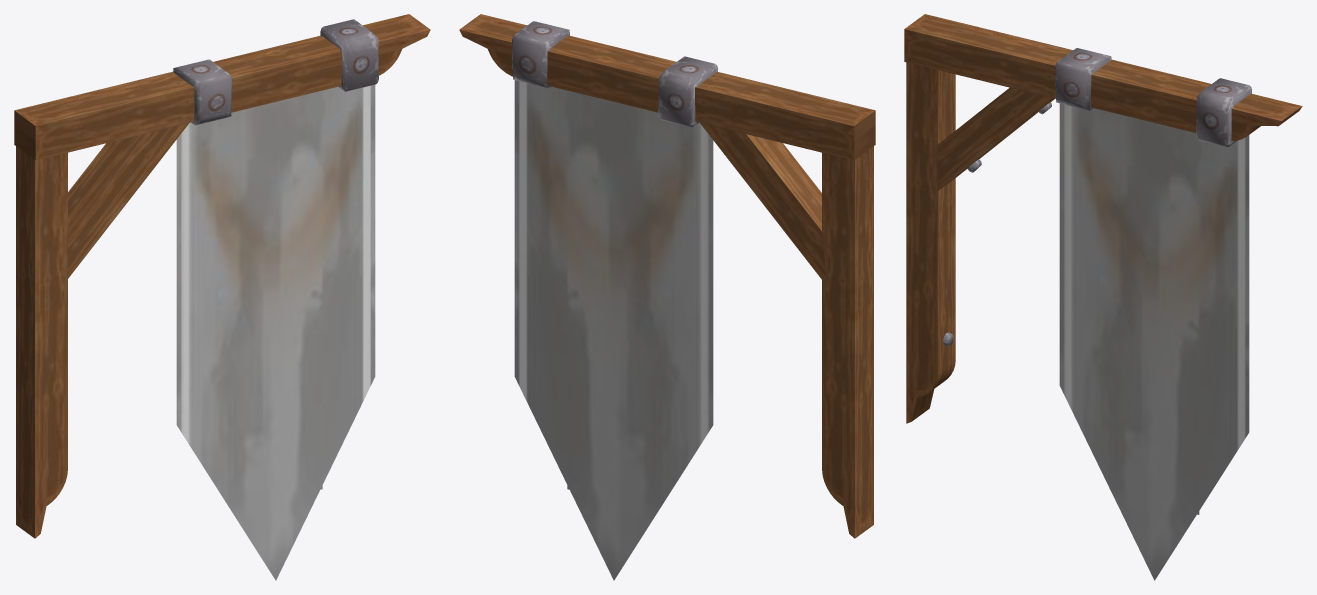
The model's file is prop-qp-banner-2.glb.
3 views of the same model, side by side, from view 1: azimuth 30°, elevation 25°; view 2: azimuth 150°, elevation 25°; view 3: azimuth 330°, elevation 25° (orthographic). The views are drawn at different scales.
Parts seen in each view (by area): view 1: Cube_236; view 2: Cube_236; view 3: Cube_236.
Part boxes in pixels (x1=…): Cube_236: x1=14, y1=14, x2=430, y2=580; Cube_236: x1=459, y1=14, x2=875, y2=580; Cube_236: x1=904, y1=14, x2=1302, y2=580.
Bounding box in the file's own units: 1.61 × 2.08 × 0.1906.
3 materials, 3 textured.
